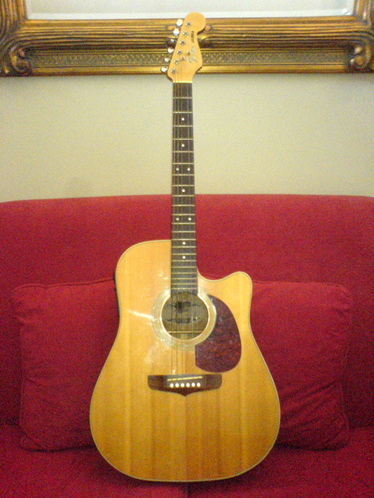guitar: (87, 6, 283, 486)
